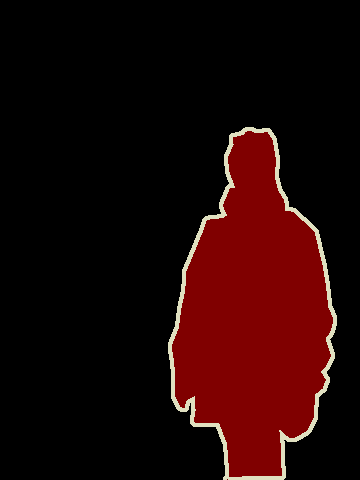person: (167, 122, 334, 480)
